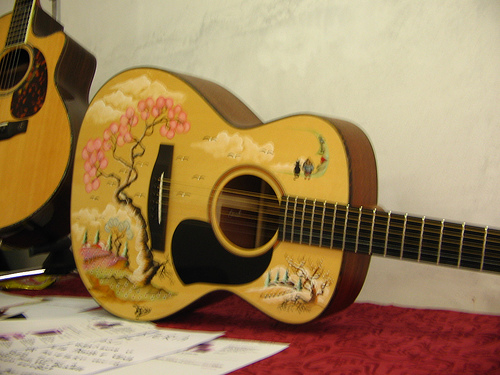guitar: (67, 67, 500, 330), (1, 1, 96, 244)
